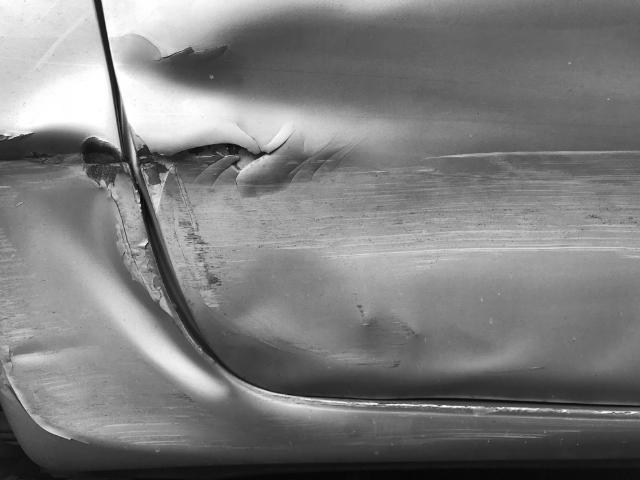Bumper: (0, 107, 163, 367)
Dickey: (114, 12, 640, 336)
